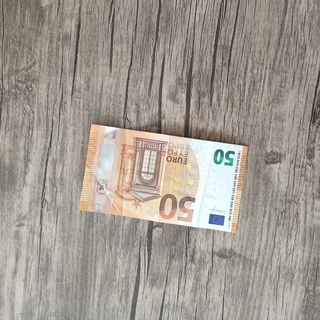50EUROFront: (77, 122, 249, 235)
